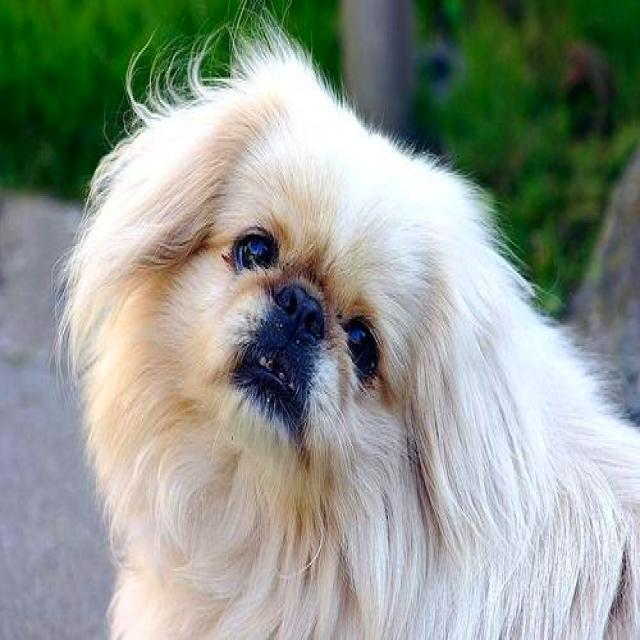pekinese: (49, 0, 638, 638)
